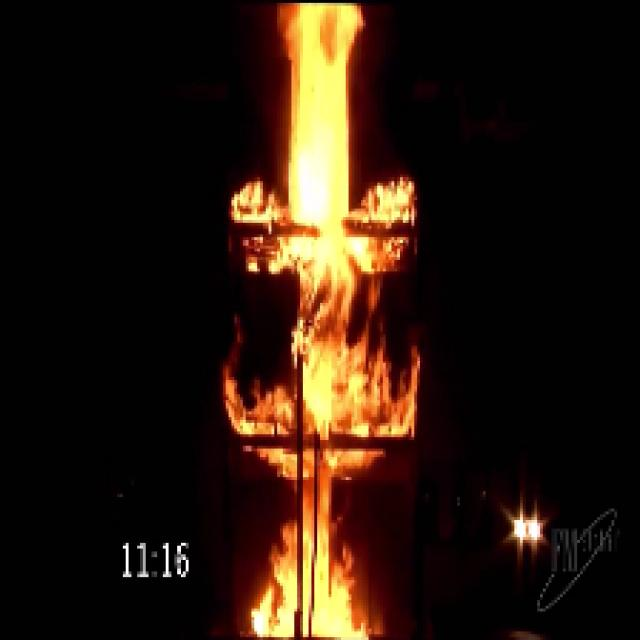fire: (239, 3, 366, 633)
